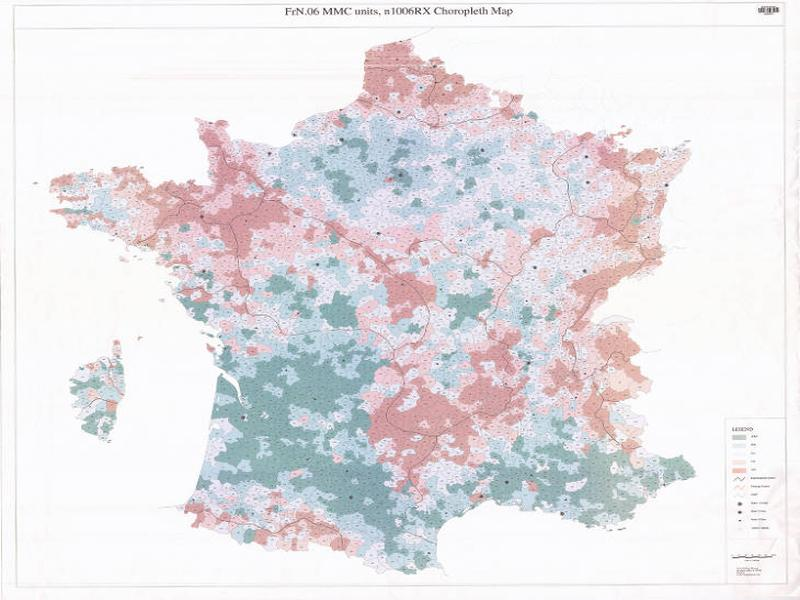legend: (725, 416, 788, 586)
